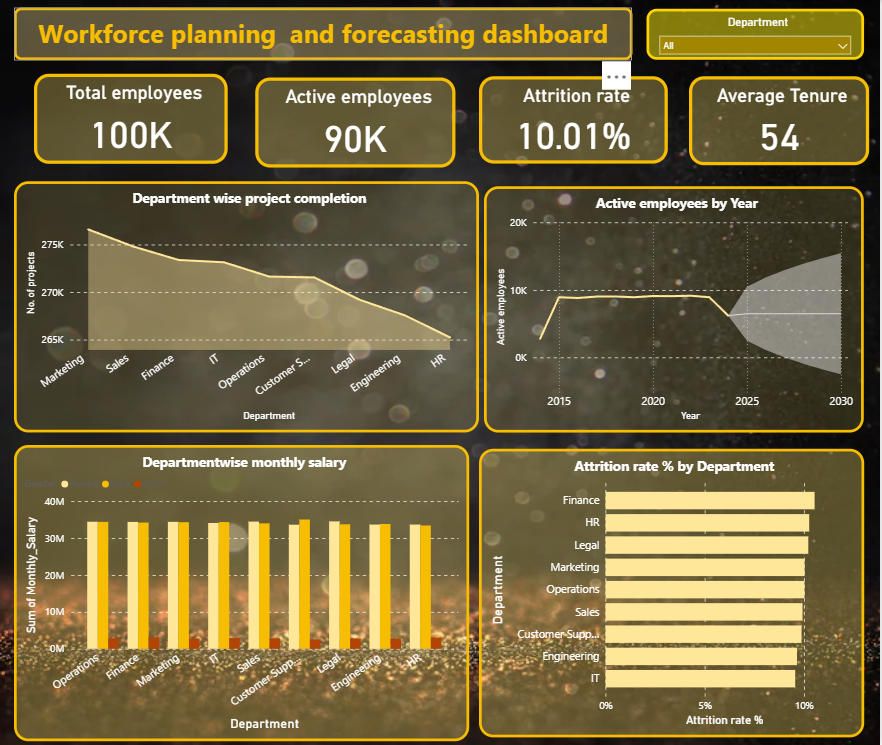

The dashboard page shown, as its layout file describes it:
{"tool":"powerbi","page":{"name":"Page 1","canvas":[1300,1100],"ordinal":0},"visuals":[{"type":"card","title":"Total employees","fields":{"Values":["Employee table.Total employees"]},"box":[51.6,108.7,285.7,132.7],"z":0},{"type":"card","title":"Active employees","fields":{"Values":["Employee table.Active employees"]},"box":[377.9,114.3,294.9,132.7],"z":1000},{"type":"card","title":"Attrition rate","fields":{"Values":["Employee table.Attrition rate %"]},"box":[707.8,112.4,278.3,129],"z":2000},{"type":"card","title":"Average Tenure","fields":{"Values":["Avg(Employee table.Tenure(monthly))"]},"box":[1017.4,112.4,265.4,130.9],"z":3000},{"type":"lineChart","fields":{"Category":["Employee table.Hire_Date.Variation.Date Hierarchy.Year","Employee table.Hire_Date.Variation.Date Hierarchy.Month"],"Y":["Employee table.Active employees"]},"box":[715.2,274.6,560.3,363.1],"z":4000},{"type":"barChart","fields":{"Category":["Employee table.Department"],"Y":["Employee table.Attrition rate %"]},"box":[707.8,661.7,567.7,425.8],"z":5000},{"type":"clusteredColumnChart","title":" Departmentwise monthly salary ","fields":{"Y":["Sum(Employee table.Monthly_Salary)"],"Category":["Employee table.Department"],"Series":["Employee table.Gender"]},"box":[22.1,656.2,670.9,436.8],"z":6000},{"type":"areaChart","title":"Department wise project completion","fields":{"Category":["Employee table.Department"],"Y":["Sum(Employee table.Projects_Handled)"]},"box":[22.1,267.3,685.7,370.5],"z":7000},{"type":"textbox","box":[22.1,11.1,912.4,77.4],"z":8000},{"type":"slicer","title":"Department","fields":{"Values":["Employee table.Department"]},"box":[954.8,12.9,320.7,75.6],"z":9000}]}

Visuals, with their boxes in screenshot pixels (x1, y1, x2, y2), scaled from the page's 1300x1100 canvas onto the 882x745 screenshot:
"Total employees" card: select_region(35, 74, 229, 163)
"Active employees" card: select_region(256, 77, 456, 167)
"Attrition rate" card: select_region(480, 76, 669, 163)
"Average Tenure" card: select_region(690, 76, 870, 165)
lineChart - Employee table.Hire_Date.Variation.Date Hierarchy.Year x Employee table.Hire_Date.Variation.Date Hierarchy.Month: select_region(485, 186, 865, 432)
barChart - Employee table.Department x Employee table.Attrition rate %: select_region(480, 448, 865, 737)
" Departmentwise monthly salary " clusteredColumnChart: select_region(15, 444, 470, 740)
"Department wise project completion" areaChart: select_region(15, 181, 480, 432)
textbox: select_region(15, 8, 634, 60)
"Department" slicer: select_region(648, 9, 865, 60)
